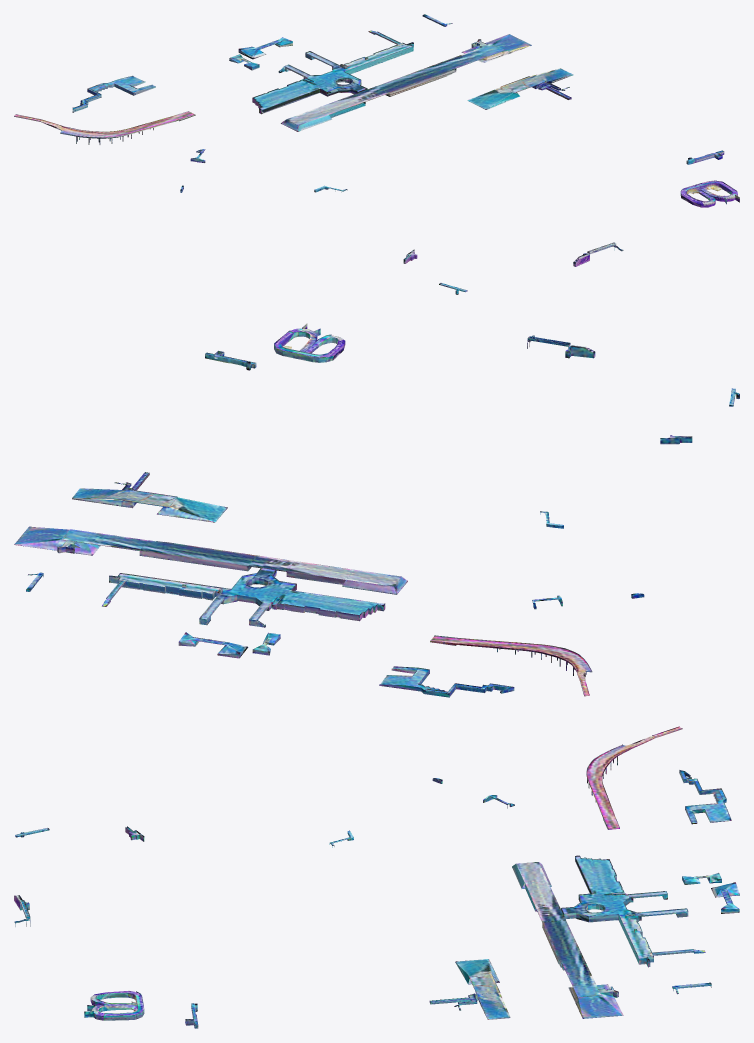
The model's file is 50-0-brid.fbx.
The picture shows the model from 3 angles, top to bottom: view 1: azimuth 30°, elevation 25°; view 2: azimuth 150°, elevation 25°; view 3: azimuth 270°, elevation 25°; orthographic projection. The views are drawn at different scales.
Parts seen in each view (by area): view 1: Mesh_0; view 2: Mesh_0; view 3: Mesh_0.
Boxes of the visible parts, x1=… form: Mesh_0: x1=14, y1=14, x2=739, y2=294; Mesh_0: x1=14, y1=323, x2=739, y2=697; Mesh_0: x1=14, y1=726, x2=739, y2=1028.
Size of the model in its own units: 94.31 by 3.02 by 100.
1 material, 1 textured.
